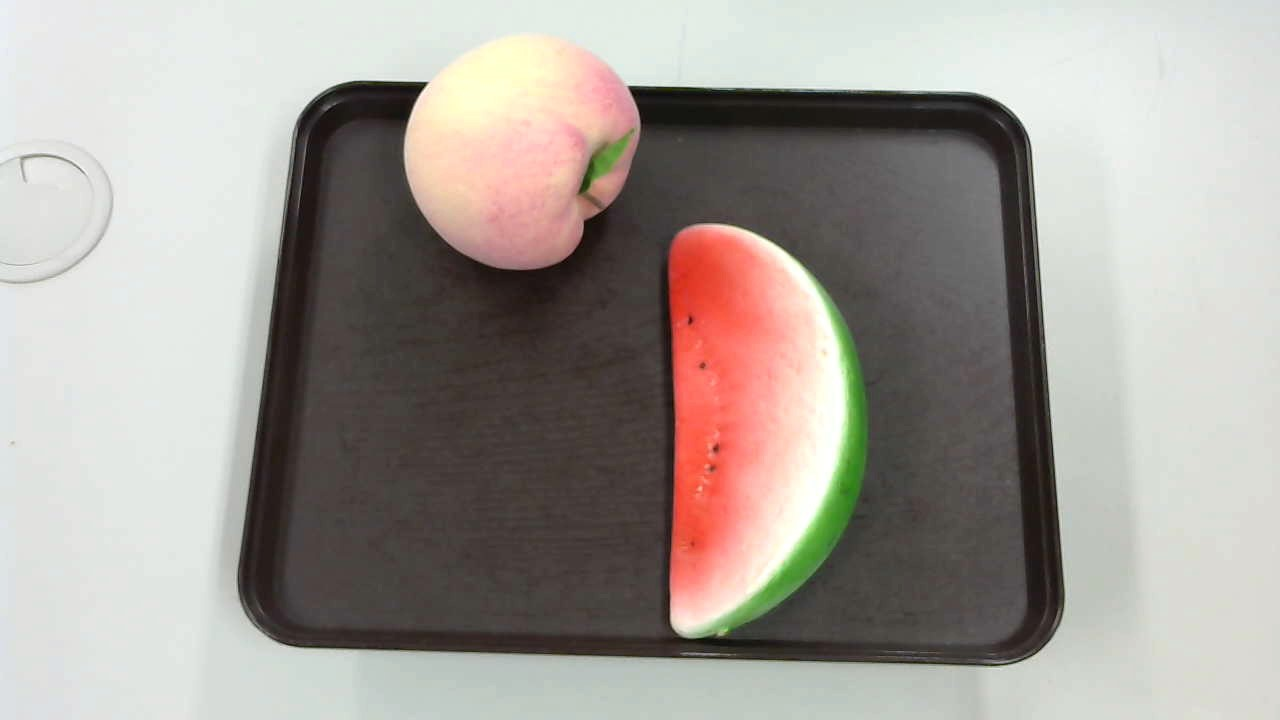peach: (400, 25, 645, 283)
water melon: (654, 214, 868, 639)
